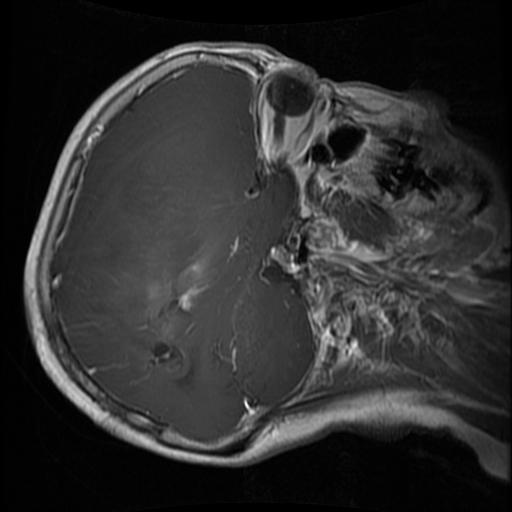glioma: (141, 257, 214, 369)
